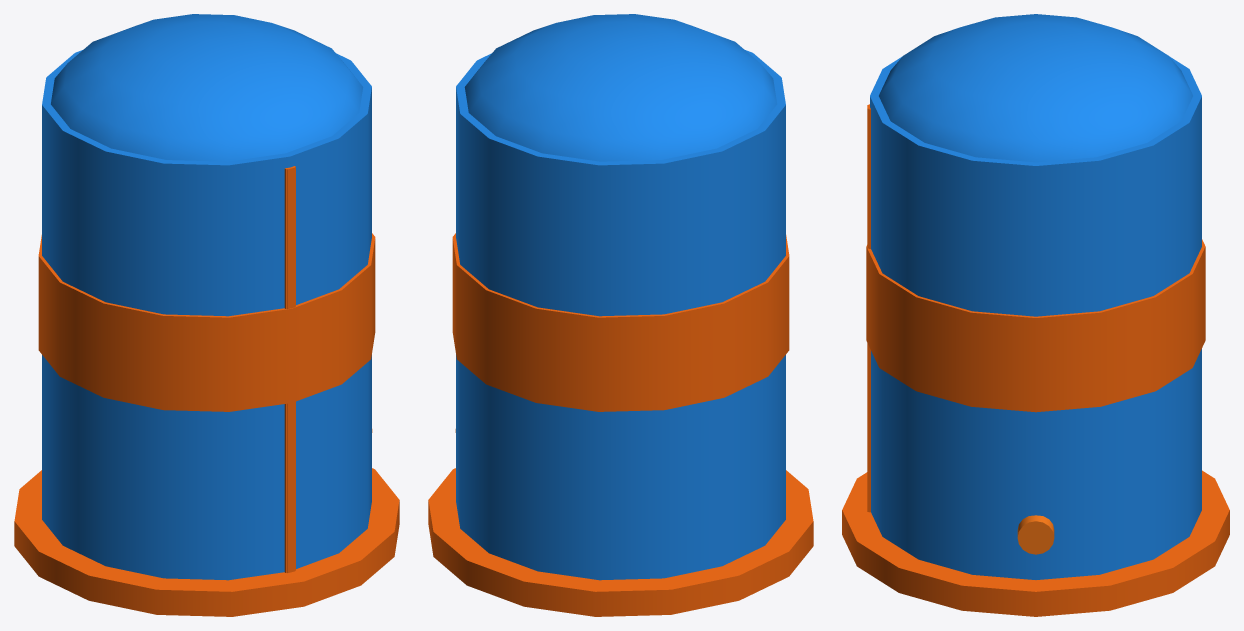
Rendered from inflatable_bunker.glb.
3 views of the same model, side by side, from view 1: azimuth 30°, elevation 25°; view 2: azimuth 150°, elevation 25°; view 3: azimuth 270°, elevation 25° (orthographic).
Visible parts, largest first — view 1: VinylBody, DomeTop, AccentBand, GroundSkirt, SeamWeld, _MeshInstance3D_33; view 2: VinylBody, DomeTop, AccentBand, GroundSkirt; view 3: VinylBody, DomeTop, AccentBand, GroundSkirt, AirValve, _MeshInstance3D_33, SeamWeld.
Part boxes in pixels (x1,y1,x2,y2): VinylBody: (42,50,371,580); DomeTop: (51,14,363,161); AccentBand: (38,233,375,411); GroundSkirt: (14,468,399,616); SeamWeld: (287,167,295,573); _MeshInstance3D_33: (284,166,295,572); VinylBody: (456,50,785,580); DomeTop: (464,14,776,161); AccentBand: (452,233,789,411); GroundSkirt: (428,468,813,616); VinylBody: (870,56,1201,579); DomeTop: (879,14,1192,162); AccentBand: (866,239,1205,412); GroundSkirt: (842,470,1229,616); AirValve: (1017,515,1054,554); _MeshInstance3D_33: (868,104,870,512); SeamWeld: (867,105,869,511).
Bounding box in the file's own units: 1.68 × 2.36 × 1.68.
